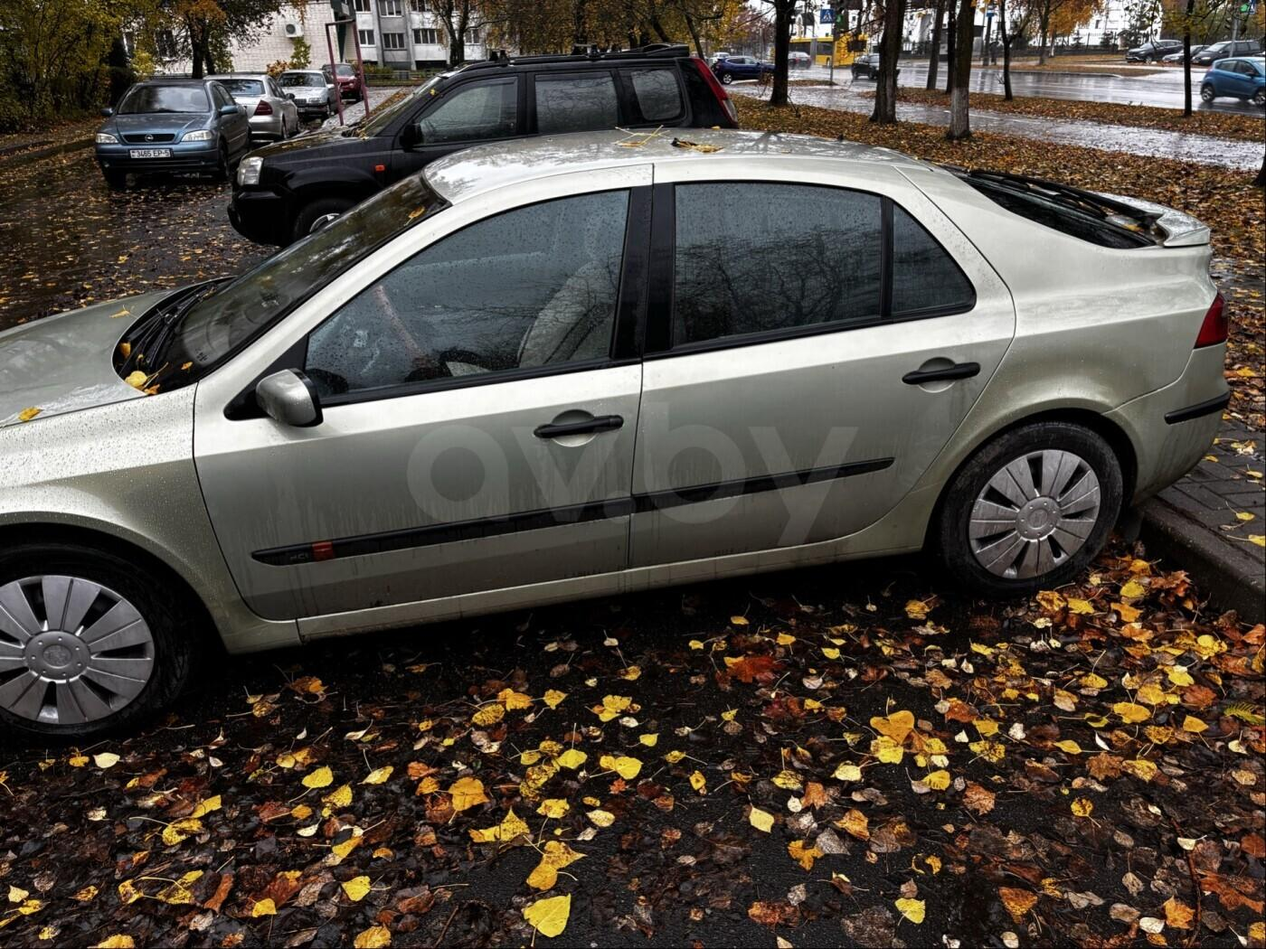Laguna_2001-2005: (0, 130, 1229, 737)
